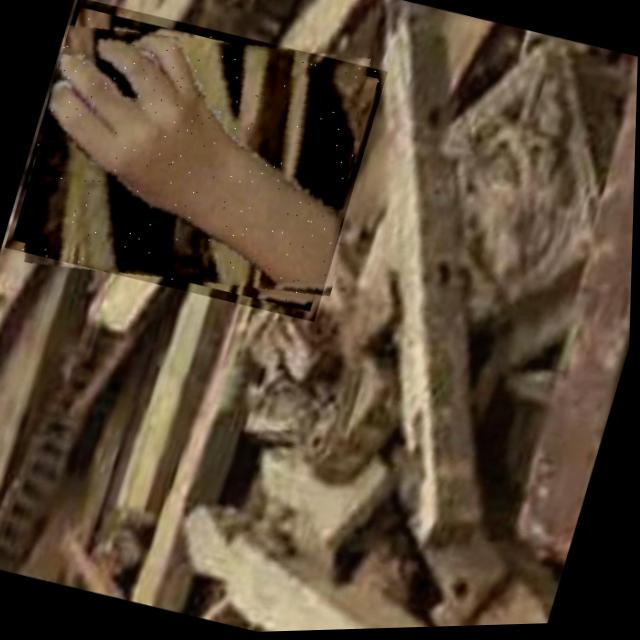Person in Rubble: (4, 0, 391, 330)
